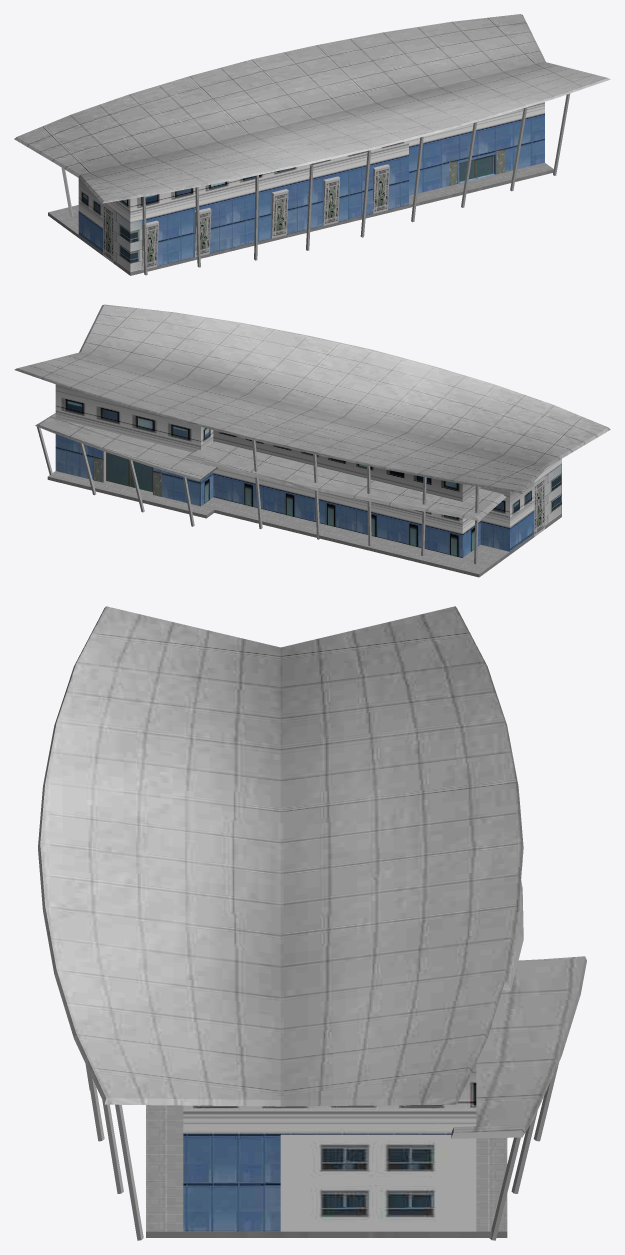
3 views of the same model, one above another, from view 1: azimuth 30°, elevation 25°; view 2: azimuth 150°, elevation 25°; view 3: azimuth 270°, elevation 25° (orthographic). The views are drawn at different scales.
Parts seen in each view (by area): view 1: 5b753db623068e0e38c5b1db.001; view 2: 5b753db623068e0e38c5b1db.001; view 3: 5b753db623068e0e38c5b1db.001.
Boxes of the visible parts, left/top/right/bottom form: 5b753db623068e0e38c5b1db.001: left=14, top=14, right=610, bottom=275; 5b753db623068e0e38c5b1db.001: left=14, top=304, right=610, bottom=577; 5b753db623068e0e38c5b1db.001: left=38, top=606, right=586, bottom=1240.
Size of the model in its own units: 75.73 by 13.76 by 35.39.
1 material, 1 textured.
